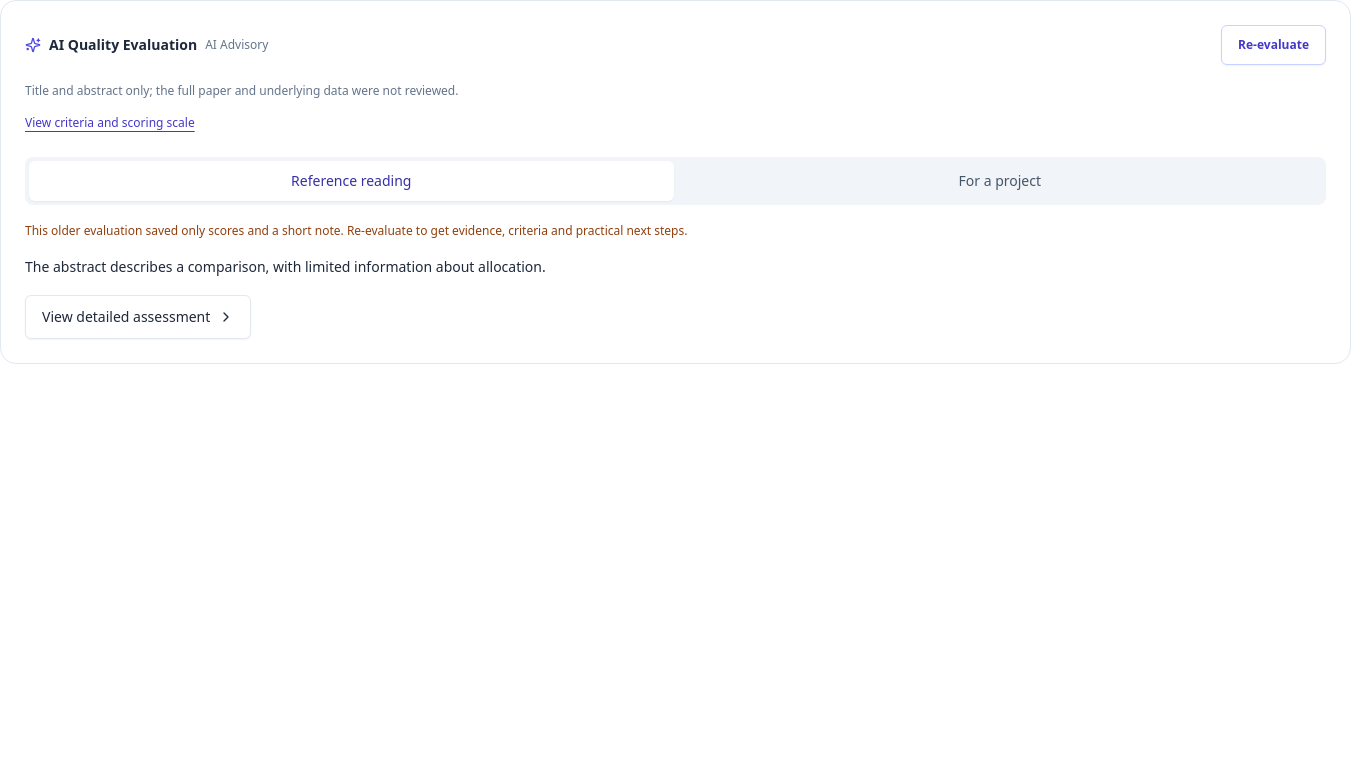
Scenario: AI quality assessment reading flow › does not invent detailed evidence for legacy scores
Click the button "View detailed assessment".
click(138, 317)  # box [25, 295, 251, 339]
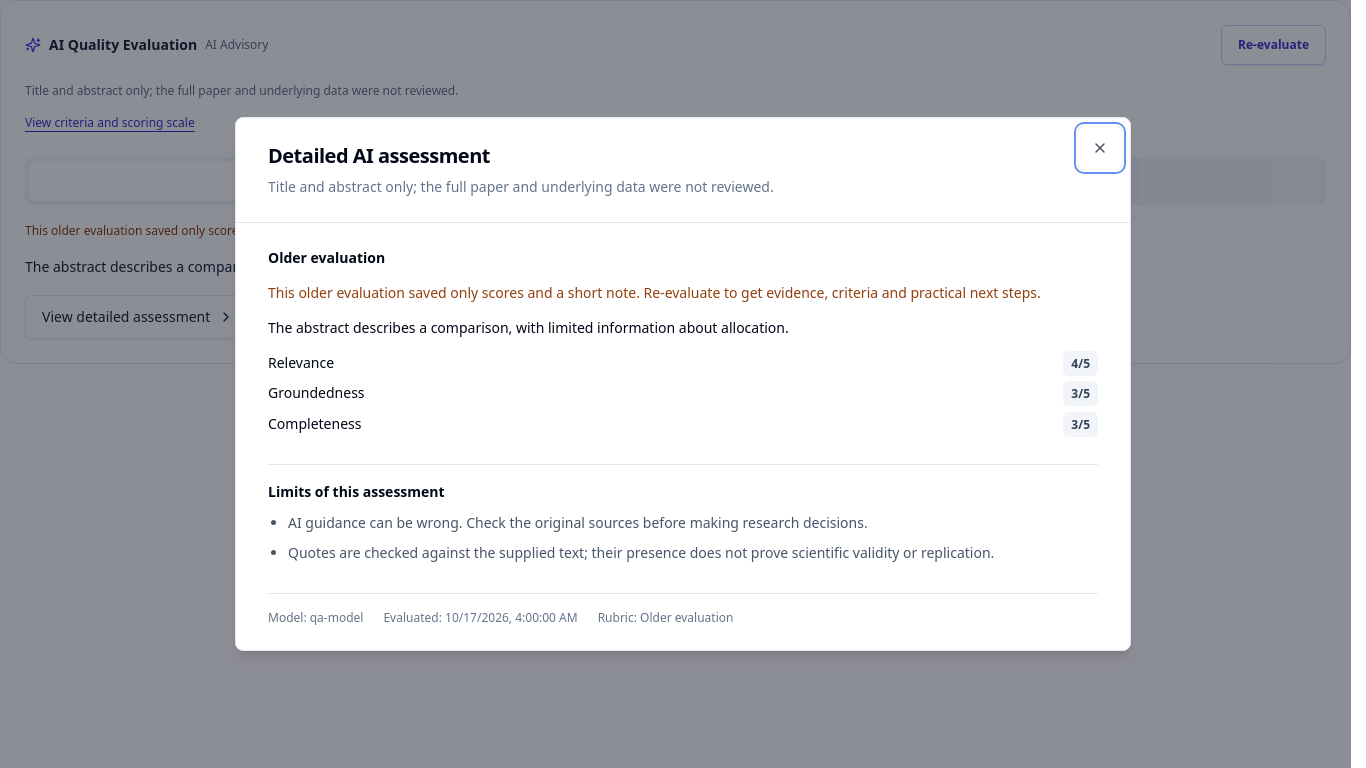
Expected: the dialog shows "Older evaluation", [268, 248, 385, 267]
